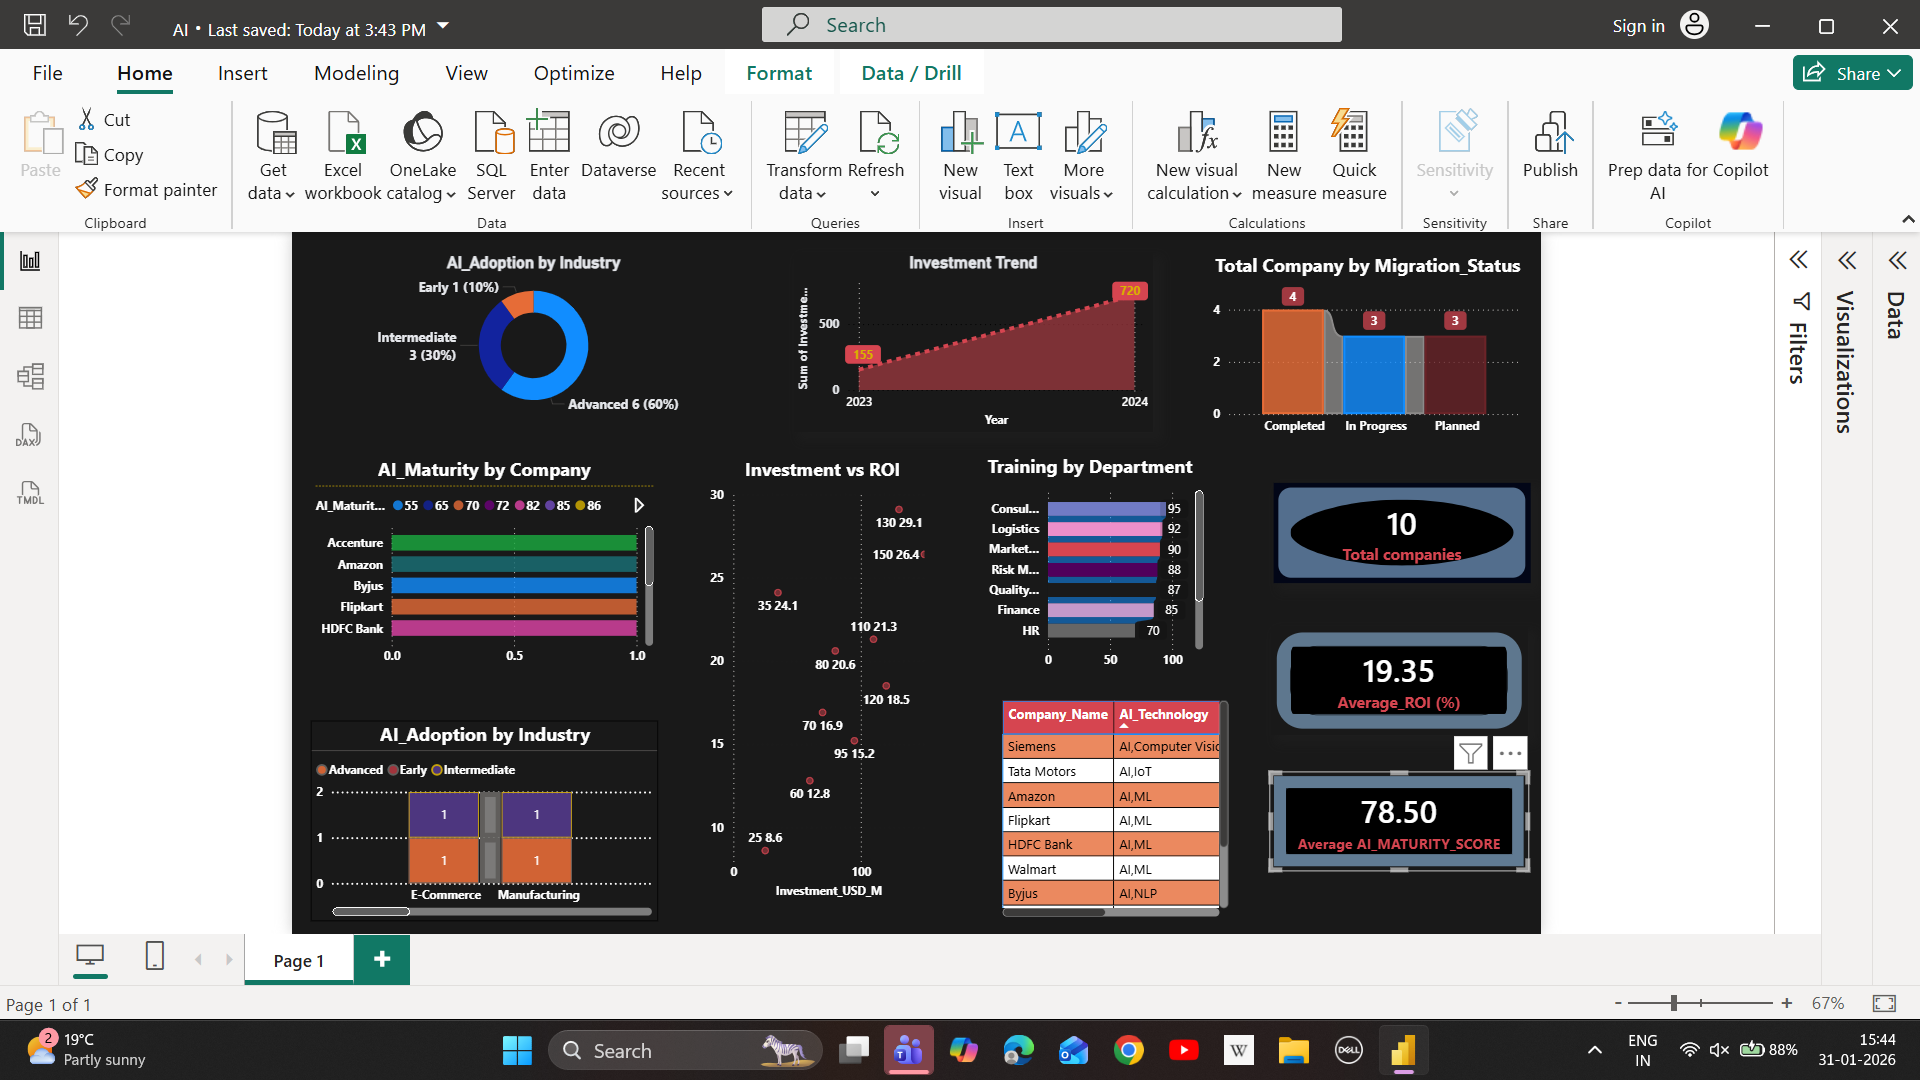

What the dashboard file says about the page in this screenshot:
{"tool":"powerbi","page":{"name":"Page 1","canvas":[1280,720],"ordinal":0},"visuals":[{"type":"donutChart","title":"AI_Adoption by Industry","fields":{"Category":["AI_ADOPTION_DATA.AI_Adoption_Level"],"Y":["CountNonNull(AI_ADOPTION_DATA.Company_Size)"]},"box":[19.5,21.3,456.9,171.8],"z":0},{"type":"barChart","title":"AI_Maturity by Company","fields":{"Category":["AI_ADOPTION_DATA.Company_Name"],"Series":["AI_ADOPTION_DATA.AI_Maturity_Score"],"Y":["CountNonNull(AI_ADOPTION_DATA.AI_Maturity_Score)"]},"box":[19.5,230.2,356,223.1],"z":1000},{"type":"columnChart","title":" AI_Adoption by Industry","fields":{"Category":["AI_ADOPTION_DATA.Industry"],"Series":["AI_ADOPTION_DATA.AI_Adoption_Level"],"Y":["CountNonNull(AI_ADOPTION_DATA.AI_Adoption_Level)"]},"box":[19.5,501.2,356,205.4],"z":2000},{"type":"lineChart","title":" Investment Trend","fields":{"Category":["AI_ADOPTION_DATA.Year"],"Y":["Sum(AI_ADOPTION_DATA.Investment_USD_M)"]},"box":[513.6,21.3,368.4,184.2],"z":3000},{"type":"scatterChart","title":"Investment vs ROI","fields":{"X":["AI_ADOPTION_DATA.Investment_USD_M"],"Y":["AI_ADOPTION_DATA.ROI_Percentage"]},"box":[423.3,230.2,240.9,456.9],"z":4000},{"type":"barChart","title":"Training by Department","fields":{"Category":["DEPARTMENT_AI-USAGE.Department"],"Y":["Sum(DEPARTMENT_AI-USAGE.AI_Training_Completed_%)"]},"box":[697.6,227.8,242,229.6],"z":5000},{"type":"columnChart","title":"Total Company by Migration_Status","fields":{"Category":["AI_CHALLENGES.Mitigation_Status"],"Y":["CountNonNull(AI_CHALLENGES.Company_ID)"]},"box":[939.6,21.2,326.7,196],"z":6000},{"type":"cardVisual","fields":{"Data":["AI_ADOPTION_DATA.Total companies","AI_ADOPTION_DATA.Total companies"]},"box":[1006.7,257.8,263.1,102.4],"z":7000},{"type":"tableEx","fields":{"Values":["AI_ADOPTION_DATA.Company_Name","AI_ADOPTION_DATA.AI_Technology","AI_ADOPTION_DATA.AI_Adoption_Level","AI_ADOPTION_DATA.Industry"]},"box":[722.3,475.1,242,231.4],"z":8000},{"type":"cardVisual","fields":{"Data":["AI_ADOPTION_DATA.Average_ROI (%)"]},"box":[1003.1,404.4,263.1,111.3],"z":10000},{"type":"cardVisual","fields":{"Data":["AI_ADOPTION_DATA.Average AI_MATURITY_SCORE"]},"box":[1001.4,552.8,266.7,102.4],"z":11000}]}

Visuals, with their boxes on the page's 1280x720 design canvas (x1, y1, x2, y2). These are canvas units, not pixel positions in the 1920x1080 screenshot, which may show the page scaled, cropped or inside an application window:
"AI_Adoption by Industry" donutChart: {"left": 20, "top": 21, "right": 476, "bottom": 193}
"AI_Maturity by Company" barChart: {"left": 20, "top": 230, "right": 376, "bottom": 453}
" AI_Adoption by Industry" columnChart: {"left": 20, "top": 501, "right": 376, "bottom": 707}
" Investment Trend" lineChart: {"left": 514, "top": 21, "right": 882, "bottom": 206}
"Investment vs ROI" scatterChart: {"left": 423, "top": 230, "right": 664, "bottom": 687}
"Training by Department" barChart: {"left": 698, "top": 228, "right": 940, "bottom": 457}
"Total Company by Migration_Status" columnChart: {"left": 940, "top": 21, "right": 1266, "bottom": 217}
cardVisual - AI_ADOPTION_DATA.Total companies x AI_ADOPTION_DATA.Total companies: {"left": 1007, "top": 258, "right": 1270, "bottom": 360}
tableEx - AI_ADOPTION_DATA.Company_Name x AI_ADOPTION_DATA.AI_Technology: {"left": 722, "top": 475, "right": 964, "bottom": 706}
cardVisual - AI_ADOPTION_DATA.Average_ROI (%): {"left": 1003, "top": 404, "right": 1266, "bottom": 516}
cardVisual - AI_ADOPTION_DATA.Average AI_MATURITY_SCORE: {"left": 1001, "top": 553, "right": 1268, "bottom": 655}
